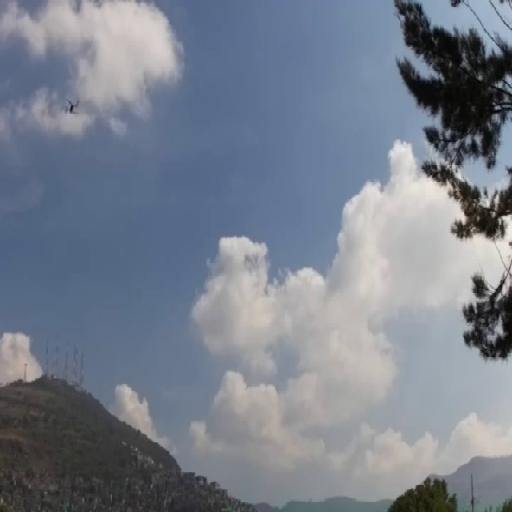drones: (63, 95, 85, 122)
